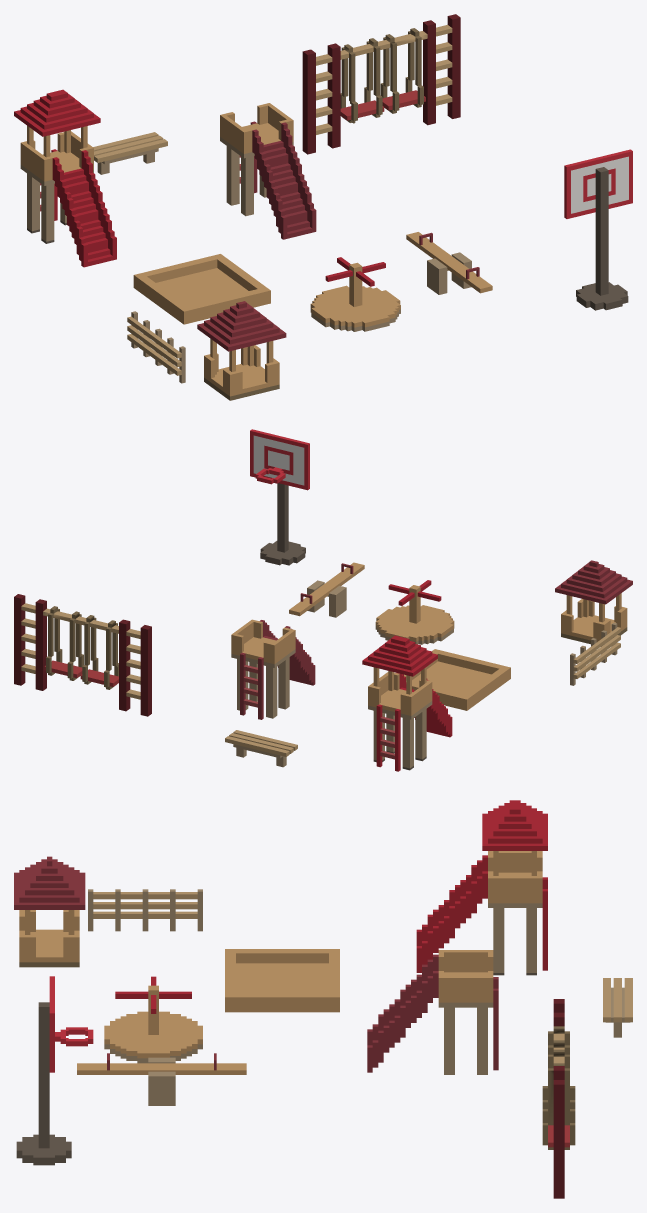
Rendered from play ground.fbx.
3 renders of one model, top to bottom at view 1: azimuth 30°, elevation 25°; view 2: azimuth 150°, elevation 25°; view 3: azimuth 270°, elevation 25°, orthographic. The views are drawn at different scales.
Visible parts, largest first — view 1: kaydirak ucgen, kaydirak, salincak, pota, kum havuzu, cardak, donen sey ?, salincak sag, salincak sol, cit, oturak, tahteravalli ? oturulan kisim (+2 smaller); view 2: kaydirak ucgen, kaydirak, salincak, pota, cardak, kum havuzu, donen sey ?, salincak sol, salincak sag, cit, oturak, tahteravalli ? oturulan kisim (+2 smaller); view 3: kaydirak ucgen, kaydirak, kum havuzu, cardak, pota, donen sey ?, cit, salincak, tahteravalli ? oturulan kisim, salincak sol, oturak, tahteravalli ? (+2 smaller).
Boxes of the visible parts, left/top/right/bottom form: kaydirak ucgen: left=14, top=89, right=116, bottom=267; kaydirak: left=220, top=103, right=316, bottom=239; salincak: left=302, top=14, right=460, bottom=154; pota: left=564, top=149, right=632, bottom=310; kum havuzu: left=133, top=254, right=270, bottom=324; cardak: left=197, top=301, right=286, bottom=400; donen sey ?: left=310, top=285, right=400, bottom=331; salincak sag: left=340, top=38, right=384, bottom=123; salincak sol: left=380, top=28, right=425, bottom=113; cit: left=127, top=311, right=185, bottom=383; oturak: left=93, top=132, right=167, bottom=174; tahteravalli ? oturulan kisim: left=406, top=232, right=492, bottom=293; kaydirak ucgen: left=362, top=635, right=452, bottom=771; kaydirak: left=231, top=619, right=315, bottom=719; salincak: left=14, top=594, right=151, bottom=716; pota: left=250, top=429, right=309, bottom=565; cardak: left=555, top=560, right=632, bottom=644; kum havuzu: left=404, top=649, right=510, bottom=710; donen sey ?: left=375, top=605, right=454, bottom=644; salincak sol: left=44, top=606, right=83, bottom=680; salincak sag: left=80, top=615, right=118, bottom=689; cit: left=570, top=623, right=620, bottom=685; oturak: left=225, top=730, right=297, bottom=767; tahteravalli ? oturulan kisim: left=289, top=562, right=364, bottom=616; kaydirak ucgen: left=416, top=800, right=547, bottom=975; kaydirak: left=367, top=950, right=498, bottom=1074; kum havuzu: left=225, top=949, right=339, bottom=1012; cardak: left=14, top=856, right=85, bottom=967; pota: left=16, top=976, right=93, bottom=1165; donen sey ?: left=104, top=1011, right=202, bottom=1063; cit: left=88, top=889, right=202, bottom=931; salincak: left=553, top=999, right=564, bottom=1198; tahteravalli ? oturulan kisim: left=77, top=1053, right=246, bottom=1074; salincak sol: left=542, top=1049, right=575, bottom=1149; oturak: left=603, top=978, right=632, bottom=1037; tahteravalli ?: left=148, top=1057, right=175, bottom=1105.
Bounding box in the file's own units: 2350 × 640 × 2260.
1 material, 1 textured.
